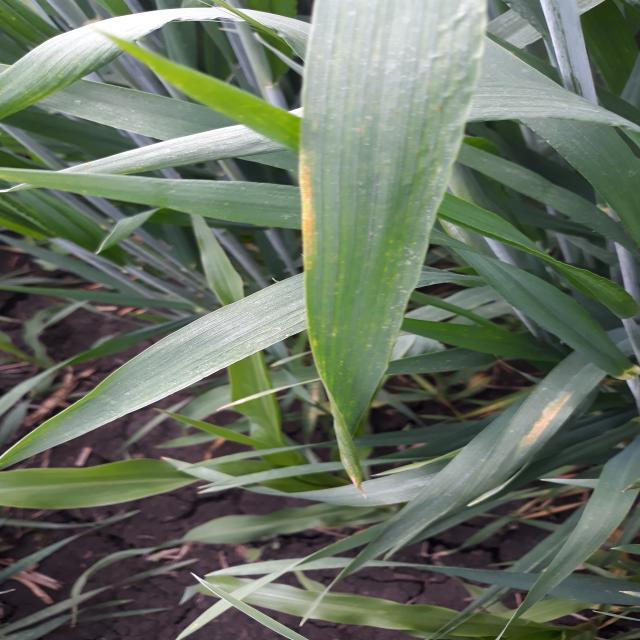yellow_rust: (287, 8, 493, 493), (424, 358, 604, 468), (474, 451, 590, 529), (585, 521, 640, 631)
